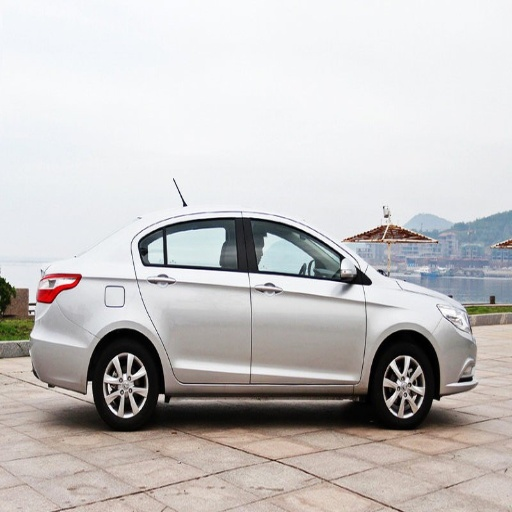back_right_door: (135, 215, 250, 382)
front_right_door: (245, 215, 366, 382)
